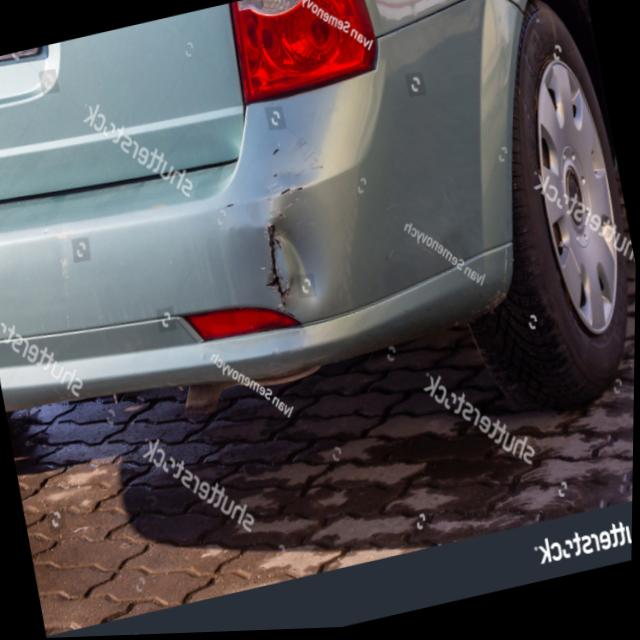Dent: (238, 176, 353, 331)
